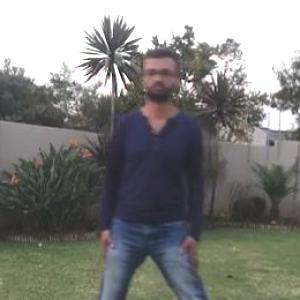follow: (92, 16, 216, 299)
